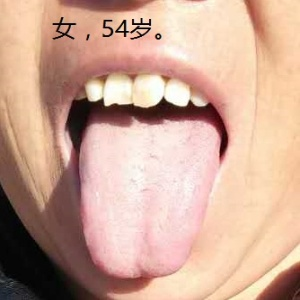st: (68, 120, 210, 278)
